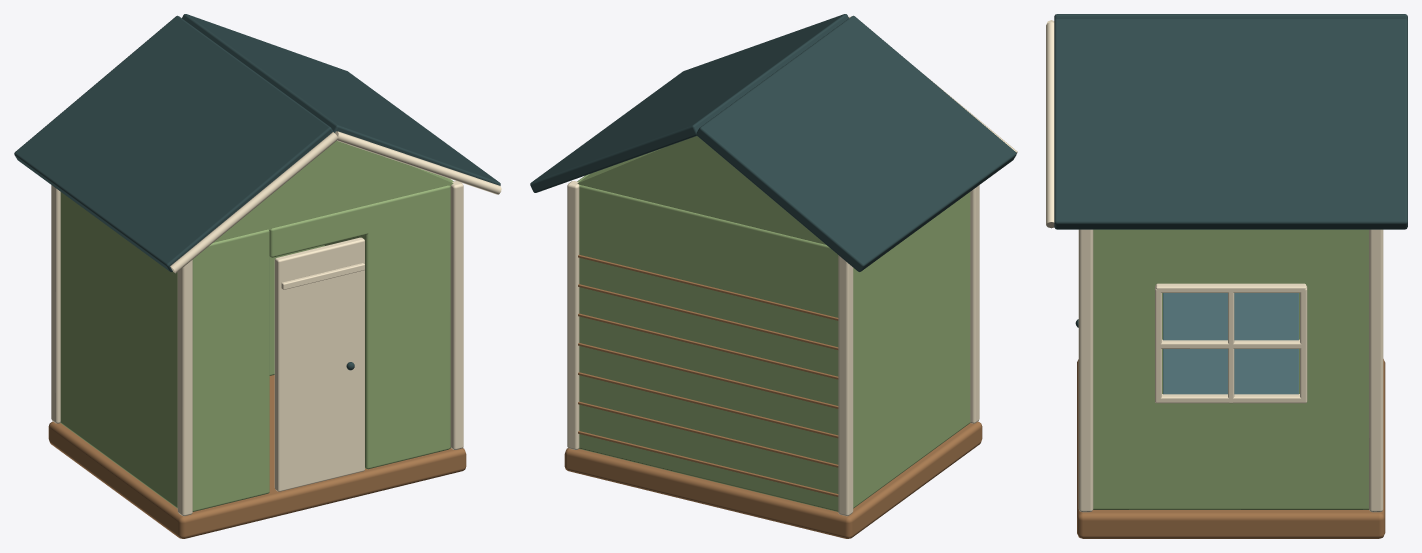
Rendered from almanac-gardens-potting-shed-e86a8e55__22013.glb.
3 renders of one model, left to right at view 1: azimuth 30°, elevation 25°; view 2: azimuth 150°, elevation 25°; view 3: azimuth 270°, elevation 25°, orthographic. The views are drawn at different scales.
Parts seen in each view (by area): view 1: potting-shed-sage, potting-shed-iron, potting-shed-ivory, potting-shed-oak; view 2: potting-shed-sage, potting-shed-iron, potting-shed-oak, potting-shed-ivory; view 3: potting-shed-iron, potting-shed-sage, potting-shed-ivory, potting-shed-blue, potting-shed-oak.
Part boxes in pixels (<box>): potting-shed-sage: <box>60,141,453,511</box>; potting-shed-iron: <box>14,14,500,370</box>; potting-shed-ivory: <box>51,131,501,516</box>; potting-shed-oak: <box>48,375,466,538</box>; potting-shed-sage: <box>577,136,970,511</box>; potting-shed-iron: <box>530,14,1016,271</box>; potting-shed-oak: <box>564,254,982,538</box>; potting-shed-ivory: <box>567,16,1017,516</box>; potting-shed-iron: <box>1054,14,1407,327</box>; potting-shed-sage: <box>1093,229,1368,509</box>; potting-shed-ivory: <box>1046,20,1383,512</box>; potting-shed-blue: <box>1163,293,1298,394</box>; potting-shed-oak: <box>1077,359,1385,538</box>.
Bounding box in the file's own units: 2.44 × 2.7 × 2.
